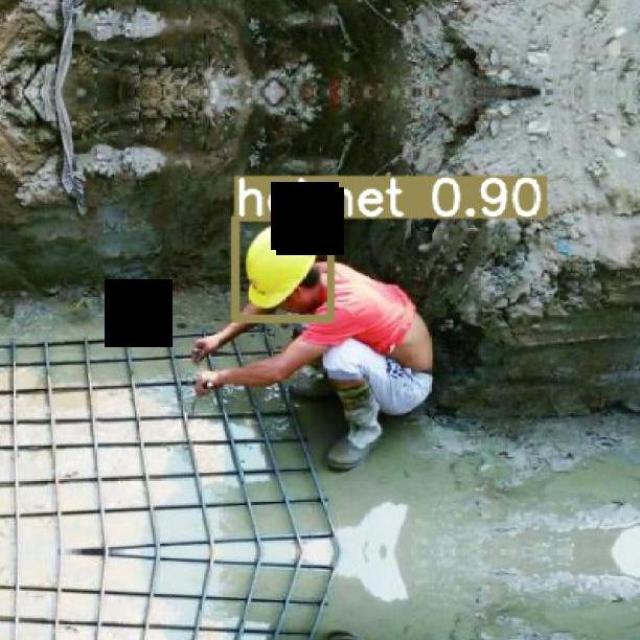yellow helmet: (240, 218, 317, 316)
